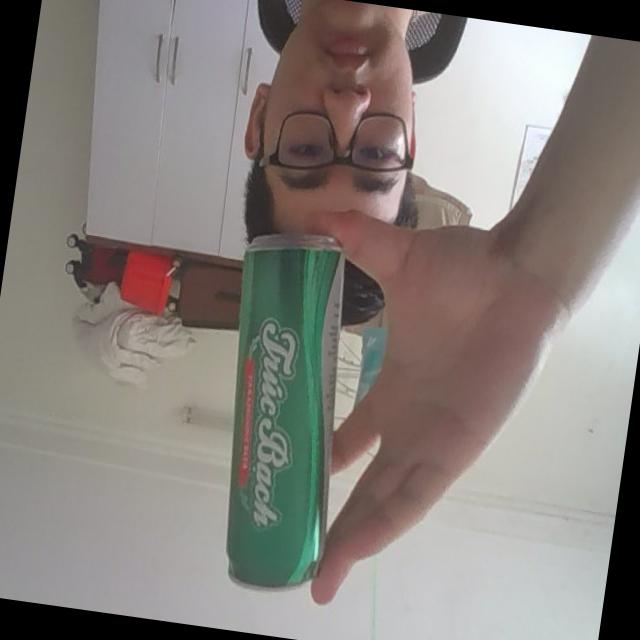Bia-Truc-Bach: (198, 229, 370, 600)
